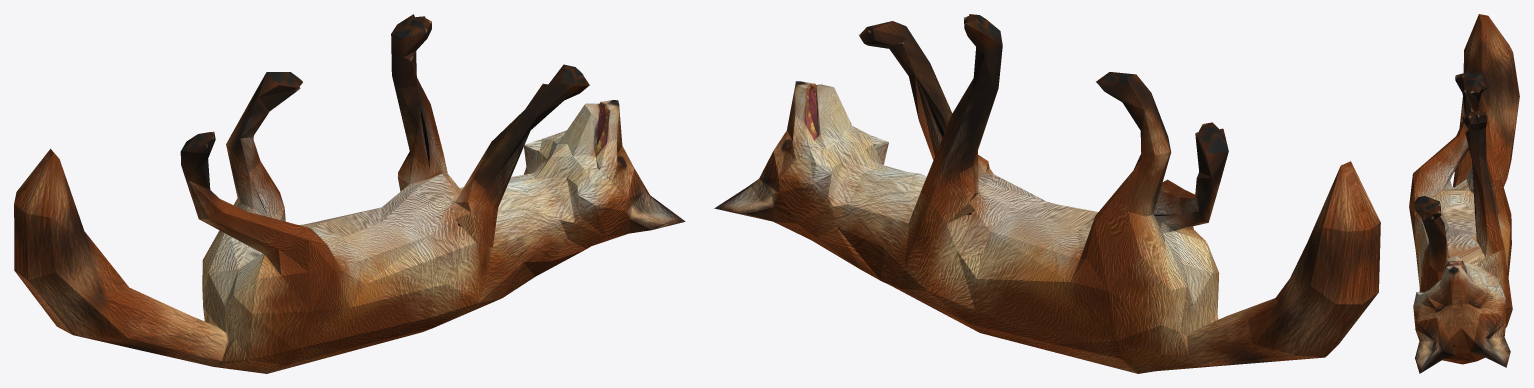
The model's file is GS_TRUCHLO_LISKA.glb.
3 views of the same model, side by side, from view 1: azimuth 30°, elevation 25°; view 2: azimuth 150°, elevation 25°; view 3: azimuth 270°, elevation 25° (orthographic). The views are drawn at different scales.
Parts seen in each view (by area): view 1: GS_TRUCHLO_LISKA; view 2: GS_TRUCHLO_LISKA; view 3: GS_TRUCHLO_LISKA.
Part boxes in pixels (x1=…): GS_TRUCHLO_LISKA: x1=14, y1=14, x2=685, y2=373; GS_TRUCHLO_LISKA: x1=714, y1=14, x2=1380, y2=373; GS_TRUCHLO_LISKA: x1=1409, y1=14, x2=1519, y2=373.
Size of the model in its own units: 0.9383 by 0.4402 by 0.1906.
1 material, 1 textured.
